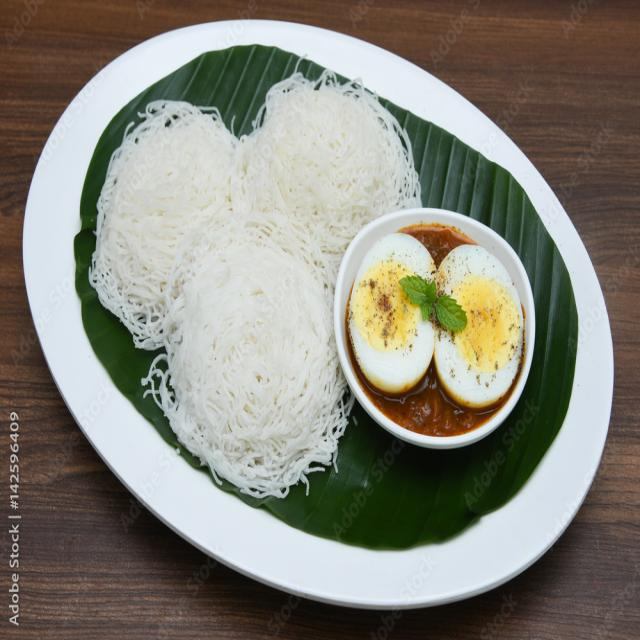EGG: (348, 222, 522, 430)
IDIYAPPAM: (168, 217, 353, 498), (234, 69, 421, 282), (99, 113, 236, 349)
